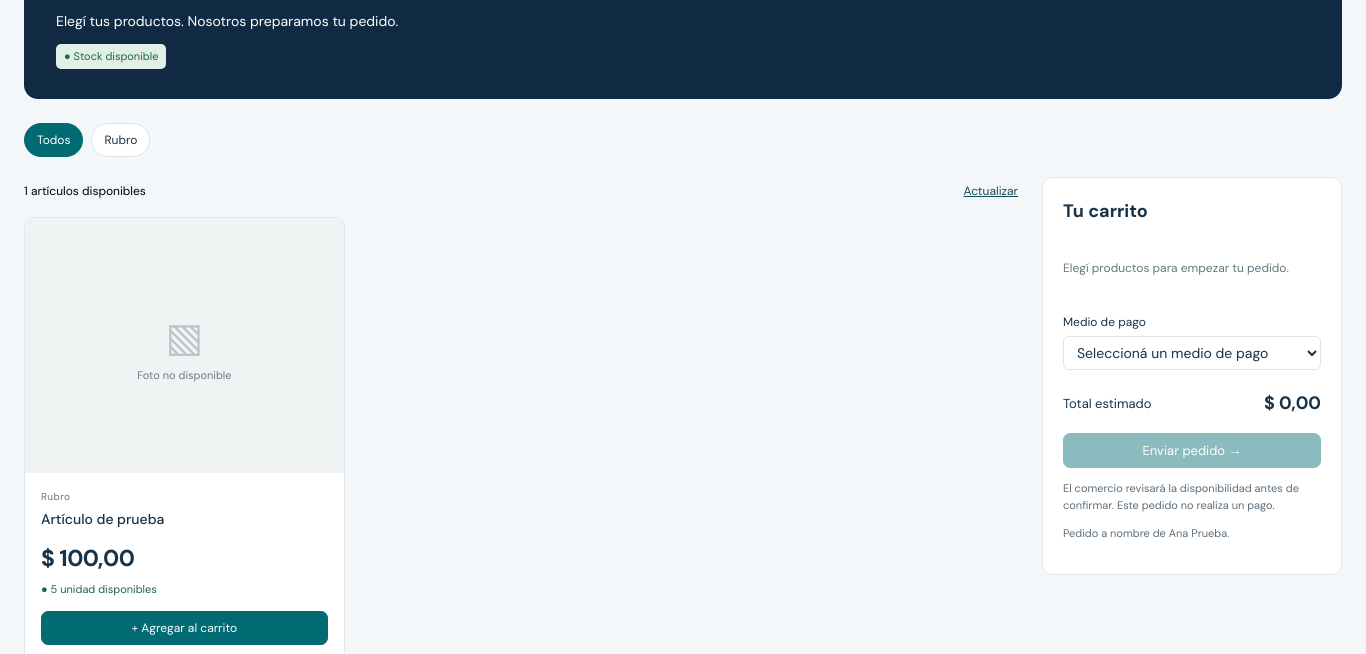
Scenario: requires choosing a payment method before submitting
(page scrolled)
Click the button "+ Agregar al carrito": [184, 628] box [41,611,328,645]
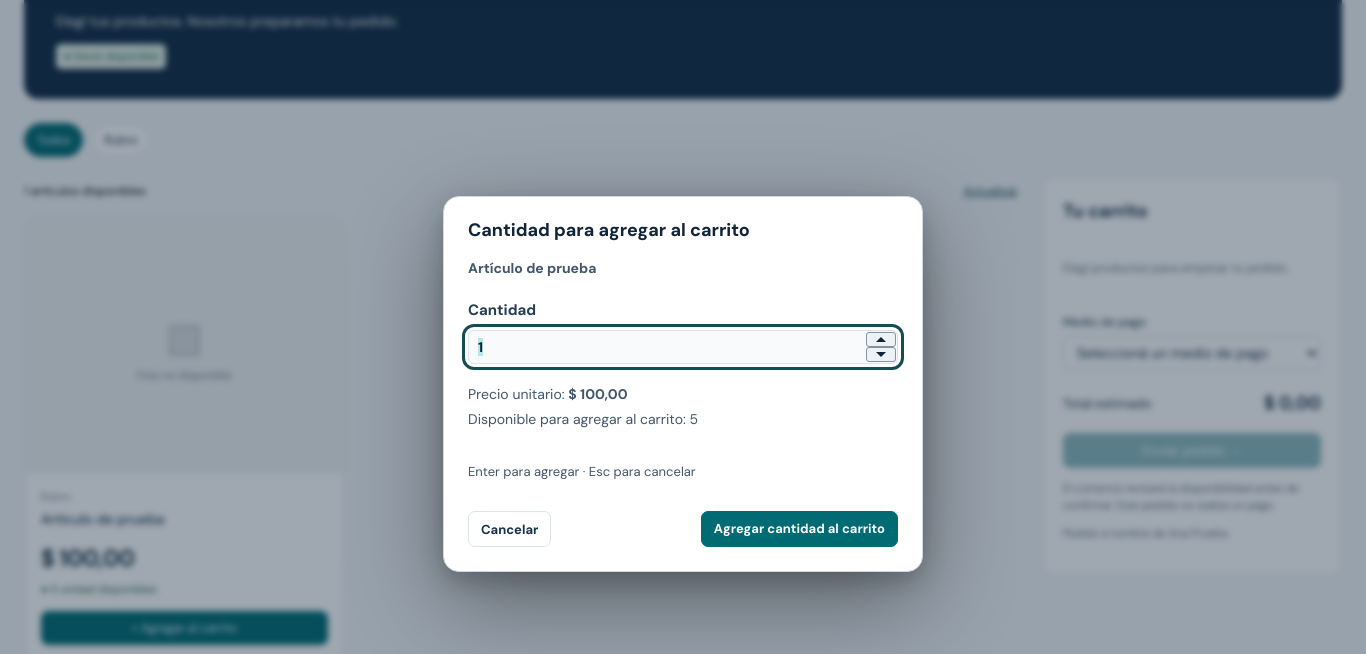
Click the button "Agregar cantidad al carrito": [799, 529] box [701,511,898,547]
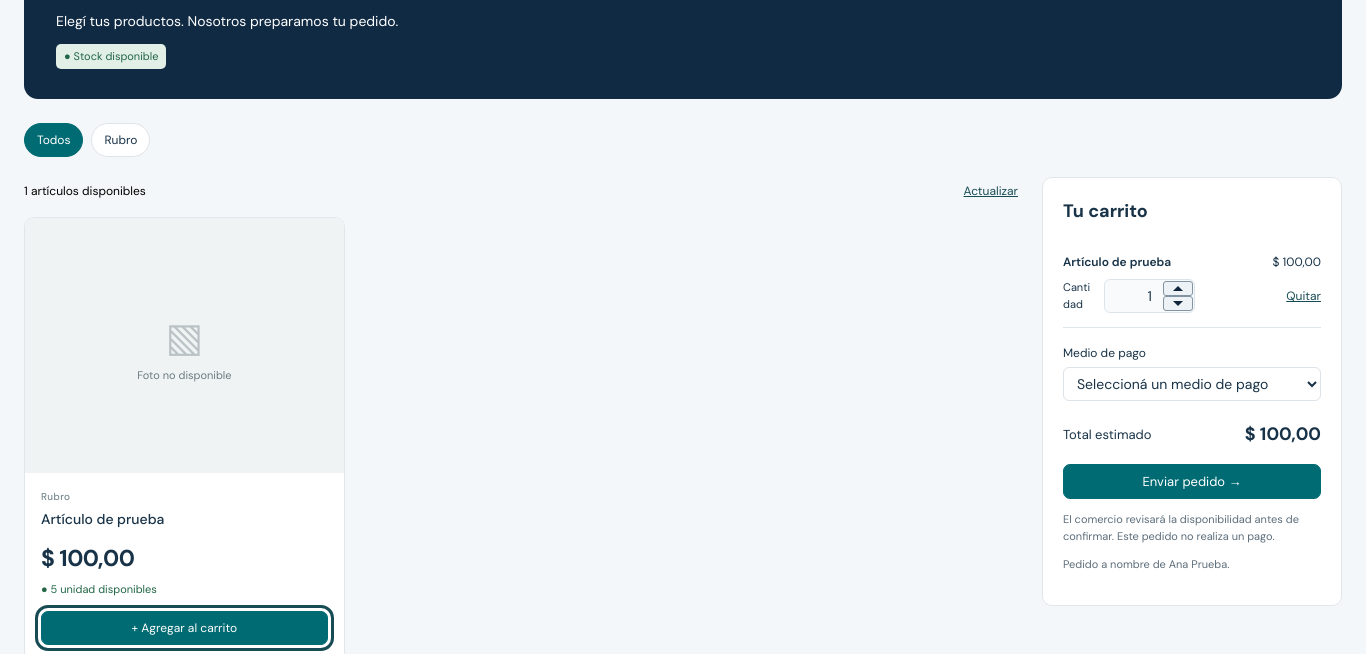
Click the button "Enviar pedido →": [1192, 482] box [1063,464,1321,499]
(page scrolled)
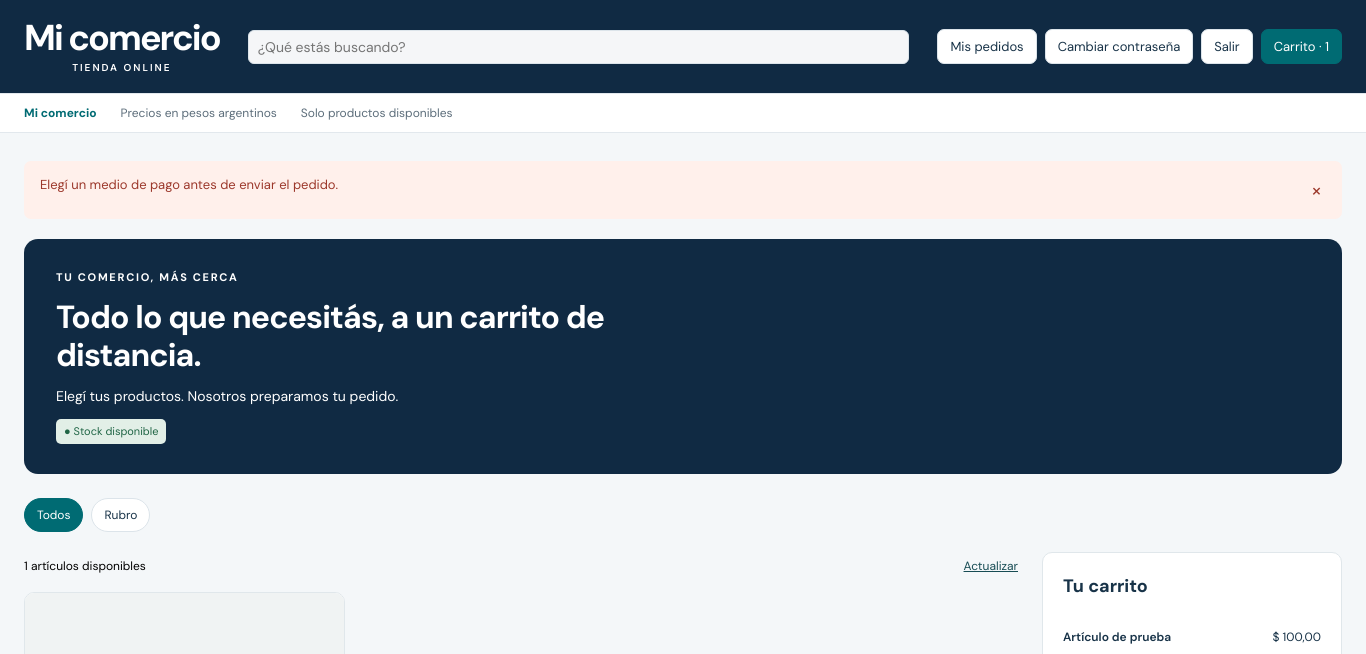
expect the message shows "Elegí un medio de pago": met, box [40,176,338,193]
